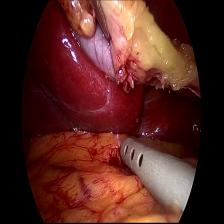Irrigator: (117, 133, 162, 194)
